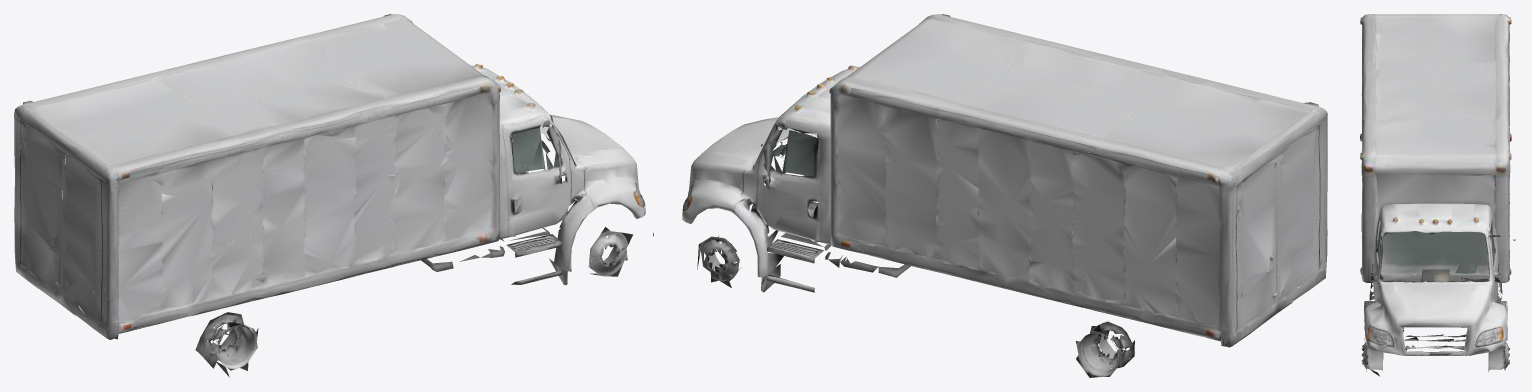
Rendered from box-paint.glb.
3 renders of one model, left to right at view 1: azimuth 30°, elevation 25°; view 2: azimuth 150°, elevation 25°; view 3: azimuth 270°, elevation 25°, orthographic. The views are drawn at different scales.
Visible parts, largest first — view 1: tripo_node_e98943fb-e5ca-40cf-a53a-c3413988f47d; view 2: tripo_node_e98943fb-e5ca-40cf-a53a-c3413988f47d; view 3: tripo_node_e98943fb-e5ca-40cf-a53a-c3413988f47d.
Boxes of the visible parts, x1=… form: tripo_node_e98943fb-e5ca-40cf-a53a-c3413988f47d: x1=14, y1=14, x2=653, y2=377; tripo_node_e98943fb-e5ca-40cf-a53a-c3413988f47d: x1=682, y1=14, x2=1327, y2=377; tripo_node_e98943fb-e5ca-40cf-a53a-c3413988f47d: x1=1360, y1=14, x2=1515, y2=376.
Size of the model in its own units: 7.8 by 3.14 by 2.56.
1 material, 1 textured.
